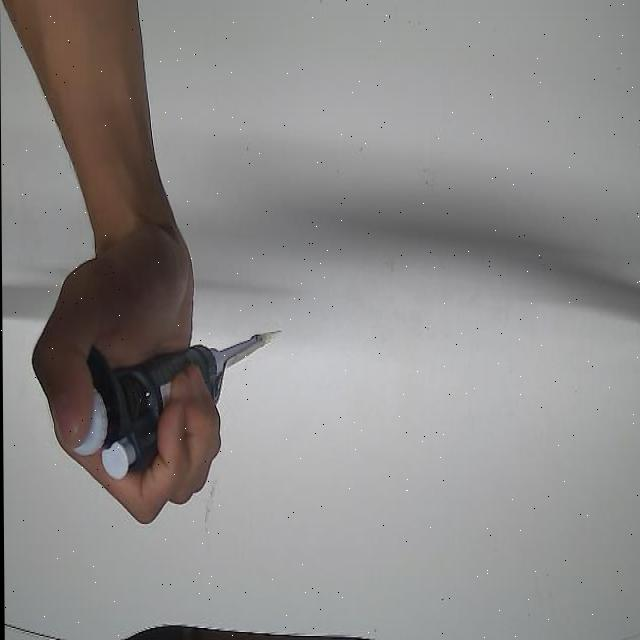Single Channel Pipettor: (52, 330, 271, 479)
